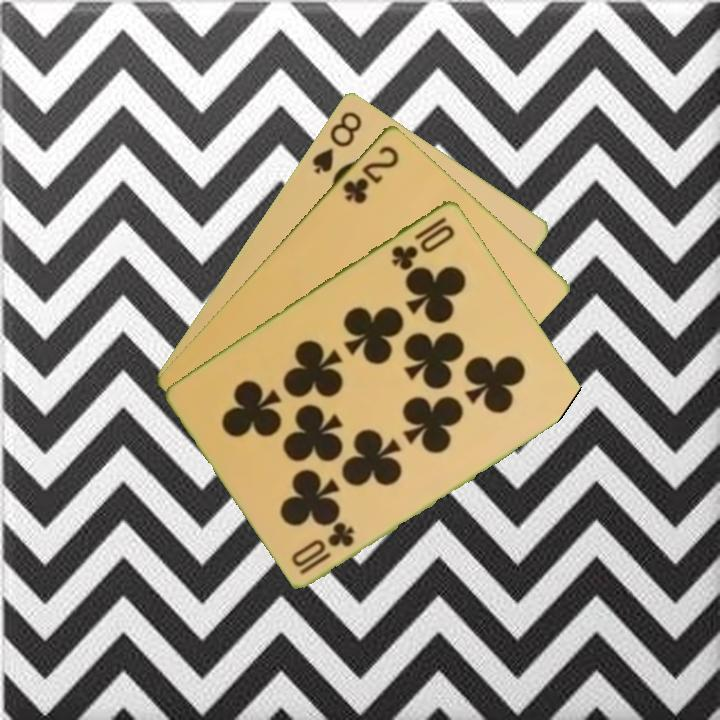10c: (387, 212, 458, 273), (288, 519, 358, 577)
2c: (339, 141, 402, 206)
8s: (308, 107, 365, 177)
